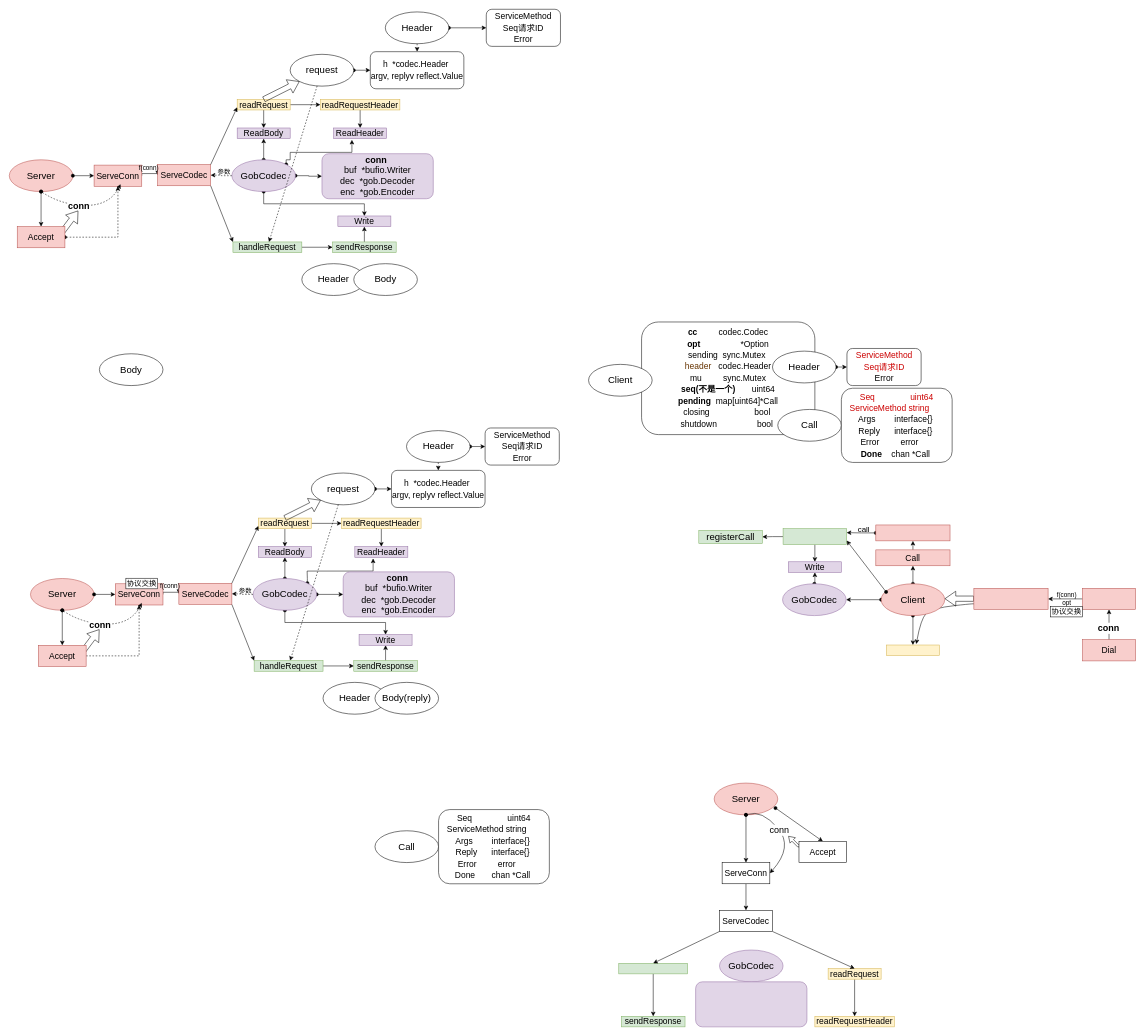
Some shapes in this 1145 by 1036 pixel diagram are drawn without their labels. The centre of each missing label's shape, as x and y in pixels:
conn io.ReadWriteCloser buf *bufio.Writer dec *gob.Decoder enc *gob.Encoder: the point at 751,1004
Go: the point at 912,532
handleResponse: the point at 653,968
NewClient: the point at 1109,599
newClientCodec: the point at 1010,599
receive: the point at 912,650
send: the point at 815,536
